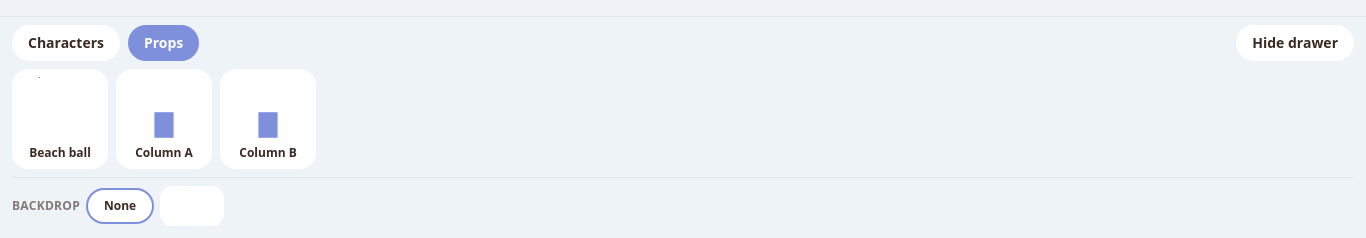
StageScreen › collapses and reopens the drawer
Click the button "Hide drawer": (1295, 43) [1236,25,1354,61]
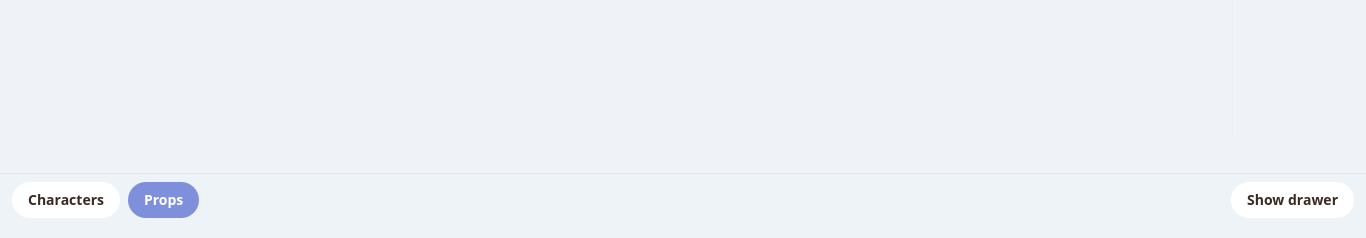
expect the button "Show drawer" is collapsed: met, box [1231,182,1354,218]
expect the button with test id "drawer-entry-props-beach-ball" is gone: met
